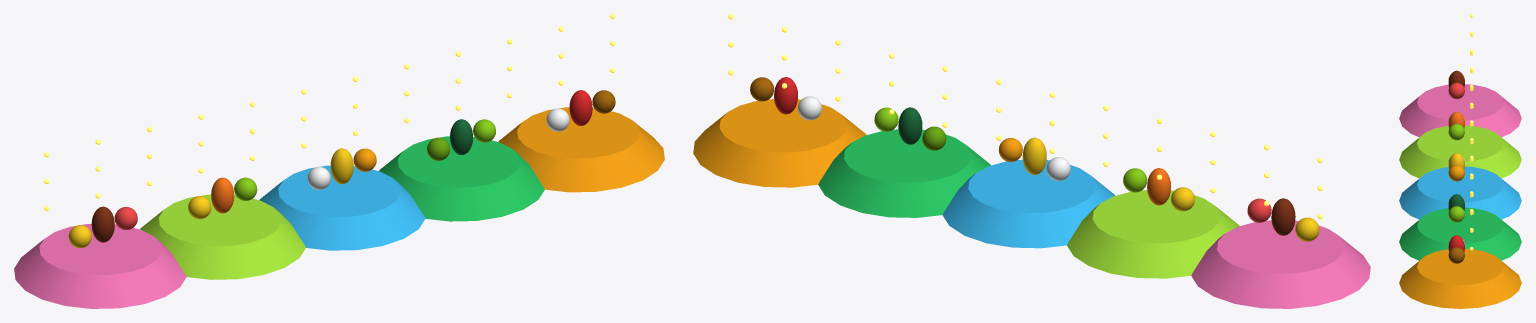
The model's file is taste-kingdom-food-islands.glb.
The picture shows the model from 3 angles, left to right: view 1: azimuth 30°, elevation 25°; view 2: azimuth 150°, elevation 25°; view 3: azimuth 270°, elevation 25°; orthographic projection. The views are drawn at different scales.
Parts seen in each view (by area): view 1: sweet-island, umami-island, salty-island, sour-island, bitter-island, salty-island-food-1, umami-island-food-1, sweet-island-food-1, sour-island-food-1, bitter-island-food-1, umami-island-food-0, salty-island-food-2 (+8 smaller); view 2: sweet-island, umami-island, bitter-island, salty-island, sour-island, bitter-island-food-1, sweet-island-food-1, salty-island-food-1, umami-island-food-1, sour-island-food-1, sweet-island-food-0, bitter-island-food-0 (+8 smaller); view 3: umami-island, salty-island, bitter-island, sour-island, sweet-island, bitter-island-food-2, umami-island-food-2, salty-island-food-2, sweet-island-food-2, sour-island-food-2, umami-island-food-1, sweet-island-food-1 (+3 smaller).
Boxes of the visible parts, x1,y1,x2,y2 form: sweet-island: (14, 224, 186, 308); umami-island: (498, 107, 664, 192); salty-island: (259, 165, 425, 250); sour-island: (140, 194, 305, 279); bitter-island: (379, 136, 544, 221); salty-island-food-1: (330, 148, 353, 184); umami-island-food-1: (569, 90, 592, 125); sweet-island-food-1: (91, 206, 114, 242); sour-island-food-1: (211, 177, 234, 213); bitter-island-food-1: (450, 119, 473, 154); umami-island-food-0: (546, 108, 569, 131); salty-island-food-2: (353, 148, 376, 171); sweet-island: (1191, 220, 1370, 308); umami-island: (693, 99, 866, 187); bitter-island: (818, 129, 990, 217); salty-island: (942, 159, 1115, 248); sour-island: (1067, 190, 1239, 278); bitter-island-food-1: (898, 107, 922, 144); sweet-island-food-1: (1271, 198, 1295, 235); salty-island-food-1: (1022, 137, 1046, 174); umami-island-food-1: (774, 77, 797, 114); sour-island-food-1: (1147, 168, 1171, 205); sweet-island-food-0: (1295, 217, 1319, 241); bitter-island-food-0: (922, 126, 946, 150); umami-island: (1399, 248, 1521, 308); salty-island: (1399, 166, 1521, 219); bitter-island: (1399, 207, 1521, 260); sour-island: (1399, 125, 1521, 178); sweet-island: (1399, 84, 1521, 137); bitter-island-food-2: (1448, 206, 1464, 222); umami-island-food-2: (1448, 247, 1464, 263); salty-island-food-2: (1448, 165, 1464, 181); sweet-island-food-2: (1448, 82, 1464, 99); sour-island-food-2: (1448, 124, 1464, 140); umami-island-food-1: (1448, 235, 1464, 252); sweet-island-food-1: (1448, 70, 1464, 87).
Size of the model in its own units: 6.84 by 1.3 by 1.64.
